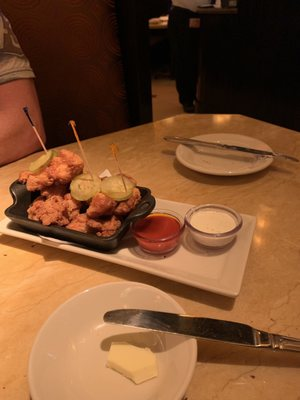sandwich: (105, 307, 300, 353)
sushi: (184, 204, 243, 249), (132, 212, 183, 255)
